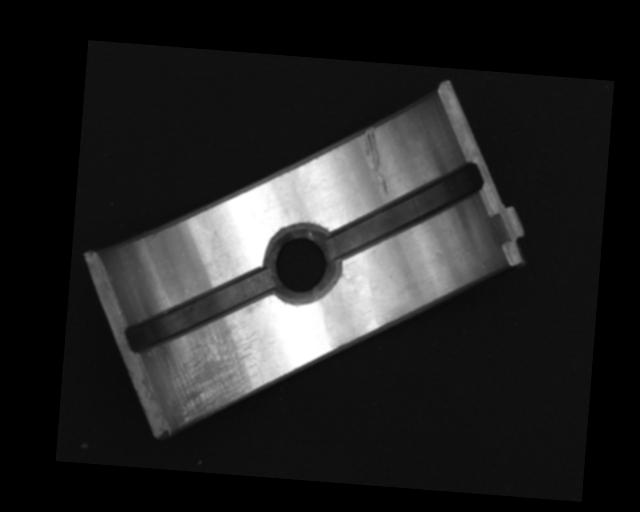gap: (329, 152, 483, 271), (122, 258, 276, 362)
hole: (263, 224, 338, 307)
nick: (357, 125, 395, 195)
scratch: (158, 315, 266, 427)
